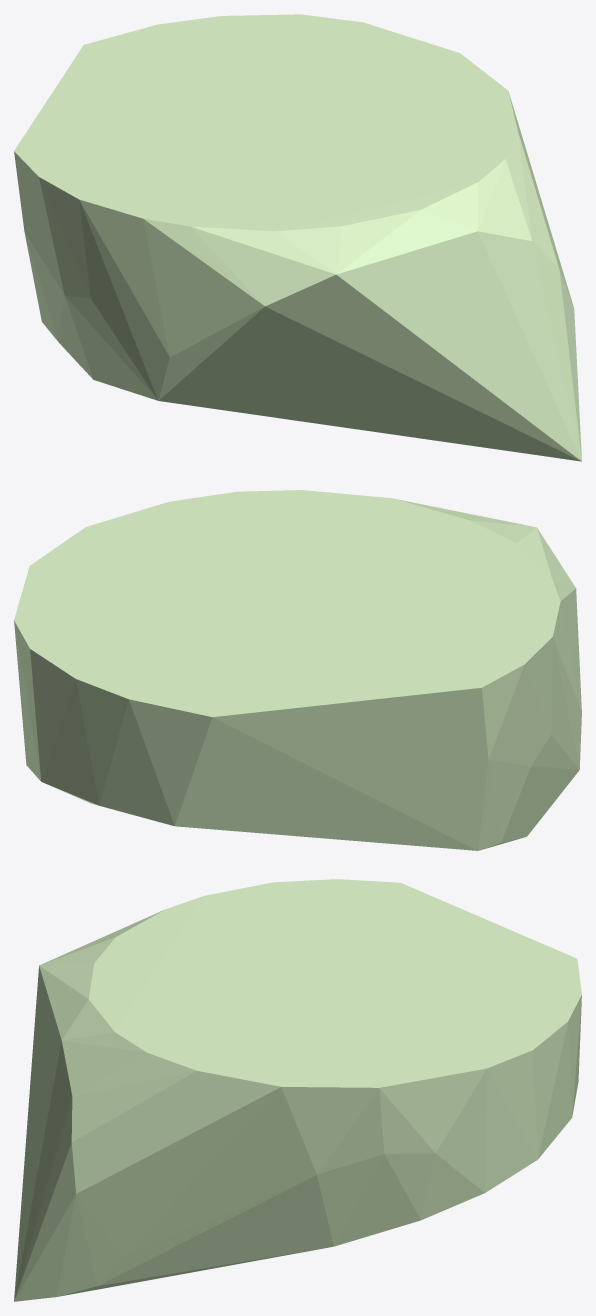
Rendered from kuka_link5_resp_coll_3.dae.
3 views of the same model, one above another, from view 1: azimuth 30°, elevation 25°; view 2: azimuth 150°, elevation 25°; view 3: azimuth 270°, elevation 25° (orthographic). The views are drawn at different scales.
Parts seen in each view (by area): view 1: Node_0000015C5C9144E0; view 2: Node_0000015C5C9144E0; view 3: Node_0000015C5C9144E0.
Part boxes in pixels (<box>): Node_0000015C5C9144E0: <box>14,14,581,461</box>; Node_0000015C5C9144E0: <box>14,490,581,850</box>; Node_0000015C5C9144E0: <box>14,879,581,1301</box>.
Size of the model in its own units: 0.1357 by 0.0744 by 0.156.
